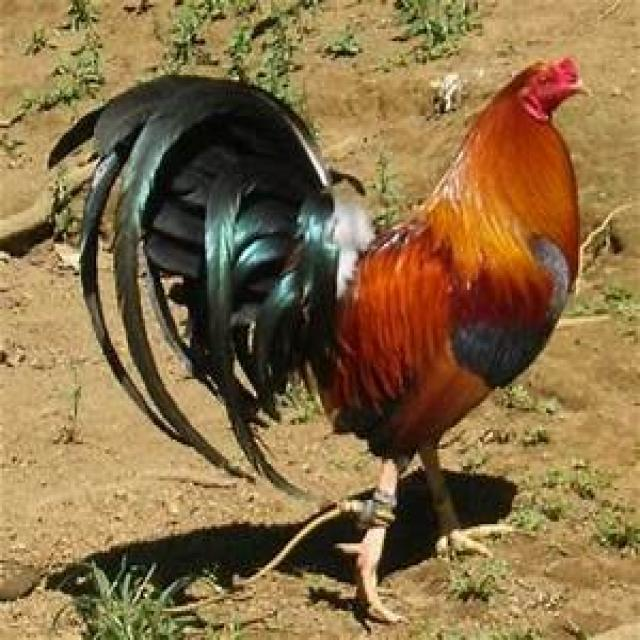hen: (90, 58, 587, 628)
